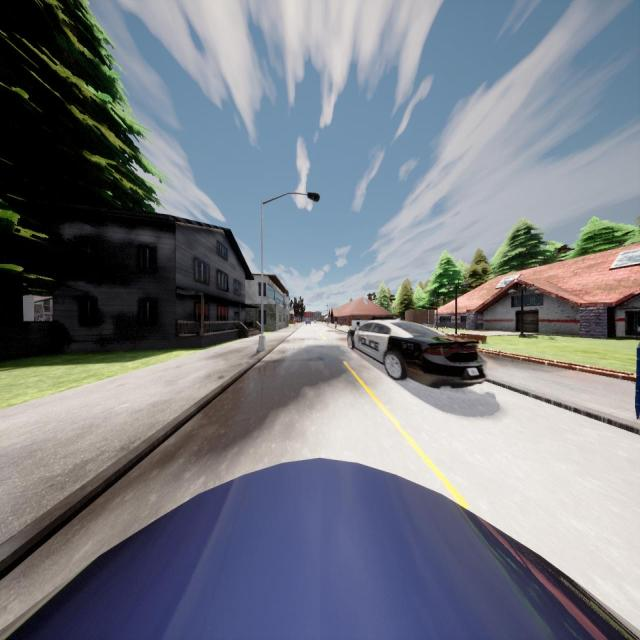Pedestrian: (293, 317, 296, 326)
Vehicle: (0, 457, 640, 640), (347, 320, 485, 380), (305, 319, 311, 325), (314, 320, 316, 324)
